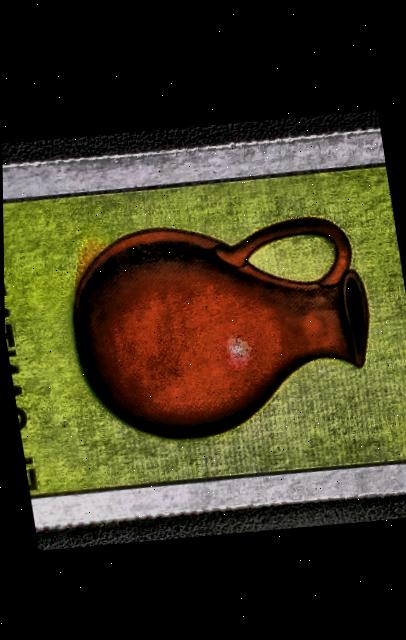El Cantarito: (1, 121, 406, 531)
